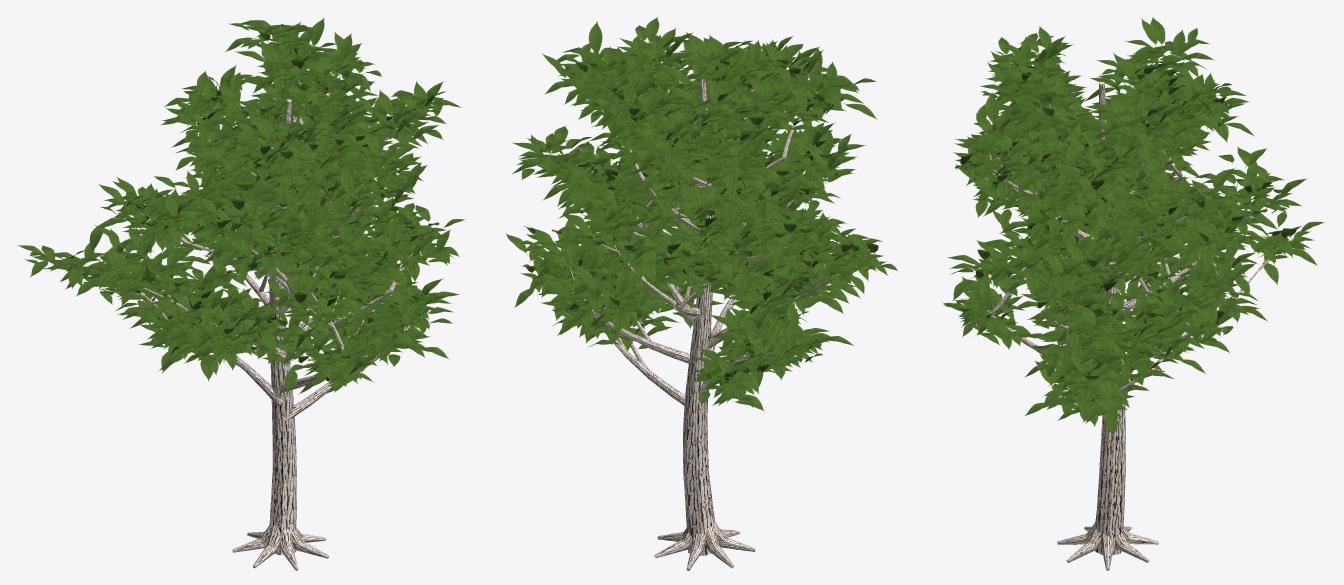
File: elm_slender.glb
The picture shows the model from 3 angles, left to right: view 1: azimuth 30°, elevation 25°; view 2: azimuth 150°, elevation 25°; view 3: azimuth 270°, elevation 25°; orthographic projection. The views are drawn at different scales.
Parts seen in each view (by area): view 1: Curved individual leaves, Branching trunk and exposed roots; view 2: Curved individual leaves, Branching trunk and exposed roots; view 3: Curved individual leaves, Branching trunk and exposed roots.
Part boxes in pixels (x1=…): Curved individual leaves: x1=17, y1=17, x2=464, y2=394; Branching trunk and exposed roots: x1=68, y1=41, x2=424, y2=570; Curved individual leaves: x1=505, y1=17, x2=897, y2=411; Branching trunk and exposed roots: x1=544, y1=74, x2=855, y2=570; Curved individual leaves: x1=943, y1=17, x2=1324, y2=435; Branching trunk and exposed roots: x1=982, y1=65, x2=1278, y2=570.
Size of the model in its own units: 10.41 by 13.59 by 9.23.
2 materials, 2 textured.
